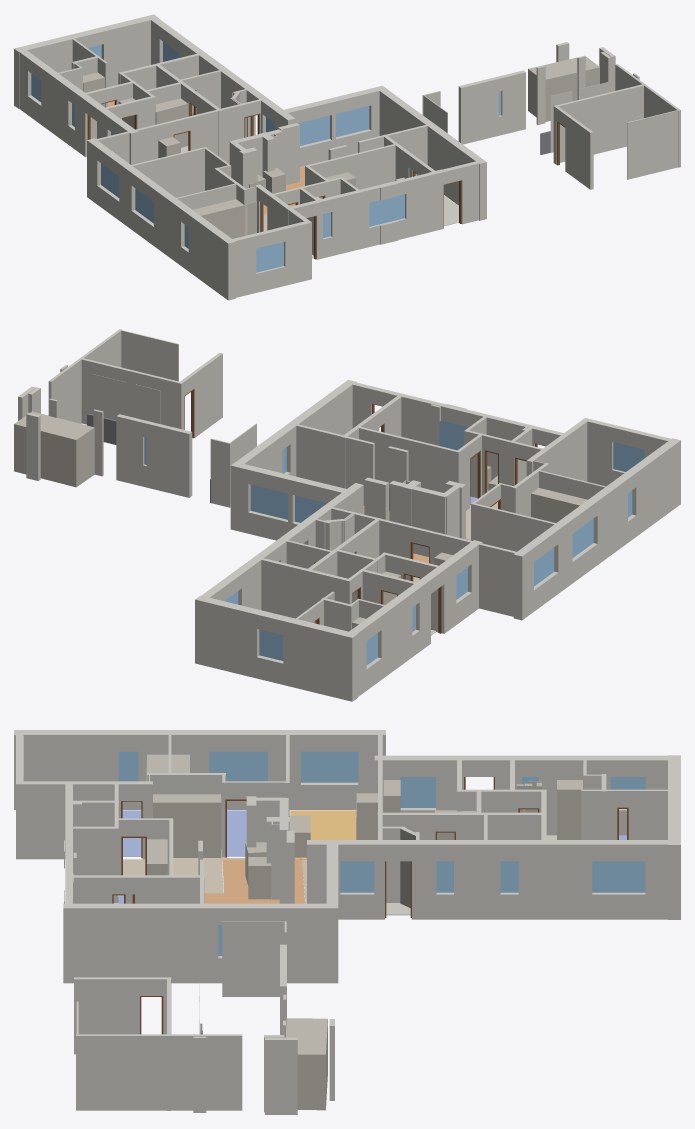
3 views of the same model, one above another, from view 1: azimuth 30°, elevation 25°; view 2: azimuth 150°, elevation 25°; view 3: azimuth 270°, elevation 25° (orthographic). The views are drawn at different scales.
Parts seen in each view (by area): view 1: walls, furniture_11_closet, furniture_13_closet, window_17, furniture_8_closet, window_8, window_14, window_25, furniture_30_fireplace; view 2: walls, furniture_11_closet, furniture_13_closet, window_8, window_25, window_0, window_17; view 3: walls, furniture_12_closet, furniture_11_closet, floor_13_Living_Room, window_4, window_2, window_3, floor_14_Entry, floor_11_Kitchen, furniture_2_closet, window_10, window_5 (+10 smaller).
Part boxes in pixels (bbox=[...]): walls: bbox=[14, 14, 680, 300]; furniture_11_closet: bbox=[528, 55, 599, 121]; furniture_13_closet: bbox=[192, 199, 244, 238]; window_17: bbox=[369, 194, 404, 226]; furniture_8_closet: bbox=[155, 98, 188, 147]; window_8: bbox=[336, 106, 369, 137]; window_14: bbox=[298, 115, 329, 145]; window_25: bbox=[256, 242, 283, 272]; furniture_30_fireplace: bbox=[263, 168, 285, 193]; walls: bbox=[18, 329, 680, 701]; furniture_11_closet: bbox=[14, 411, 94, 487]; furniture_13_closet: bbox=[531, 488, 587, 522]; window_8: bbox=[250, 485, 287, 519]; window_25: bbox=[613, 442, 644, 471]; window_0: bbox=[259, 629, 283, 660]; window_17: bbox=[439, 420, 468, 450]; walls: bbox=[14, 730, 680, 1114]; furniture_12_closet: bbox=[153, 794, 221, 857]; furniture_11_closet: bbox=[286, 1018, 327, 1110]; floor_13_Living_Room: bbox=[204, 858, 305, 903]; window_4: bbox=[301, 751, 358, 782]; window_2: bbox=[592, 861, 645, 892]; window_3: bbox=[209, 751, 267, 781]; floor_14_Entry: bbox=[123, 850, 245, 893]; floor_11_Kitchen: bbox=[290, 810, 356, 859]; furniture_2_closet: bbox=[557, 780, 582, 839]; window_10: bbox=[340, 861, 374, 892]; window_5: bbox=[400, 777, 435, 807].
Size of the model in its own units: 23.96 by 2.72 by 21.79.
